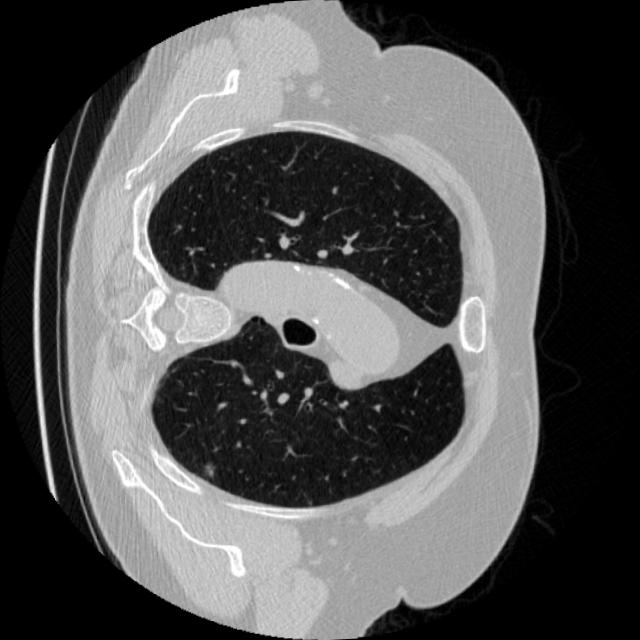nodule: (197, 458, 223, 484)
